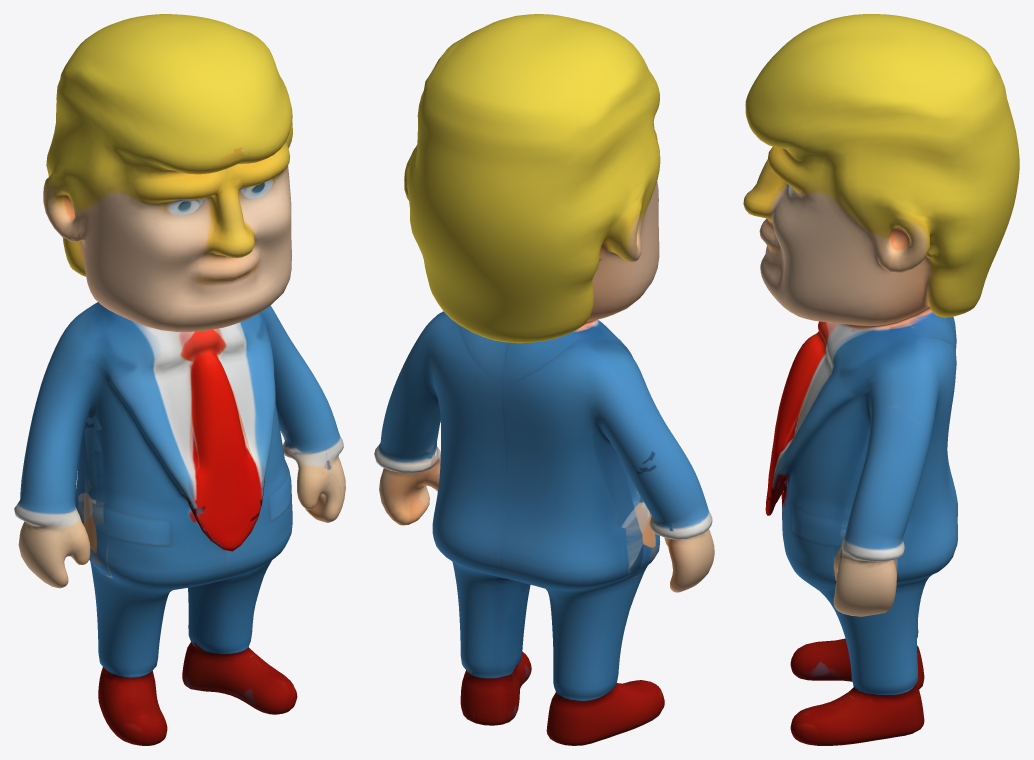
3 renders of one model, left to right at view 1: azimuth 30°, elevation 25°; view 2: azimuth 150°, elevation 25°; view 3: azimuth 270°, elevation 25°, orthographic. The views are drawn at different scales.
Visible parts, largest first — view 1: model; view 2: model; view 3: model.
Boxes of the visible parts, box(x1,y1,x2,y2) form: model: box(14, 14, 345, 745); model: box(374, 14, 714, 745); model: box(743, 14, 1019, 745).
Size of the model in its own units: 0.955 by 1.9 by 0.7053.
Materials: 1 (1 with a texture image).
